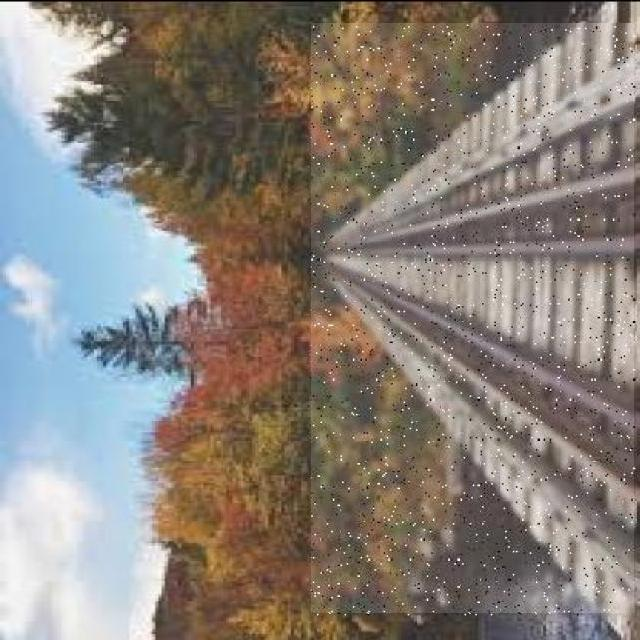rail: (312, 24, 635, 614)
